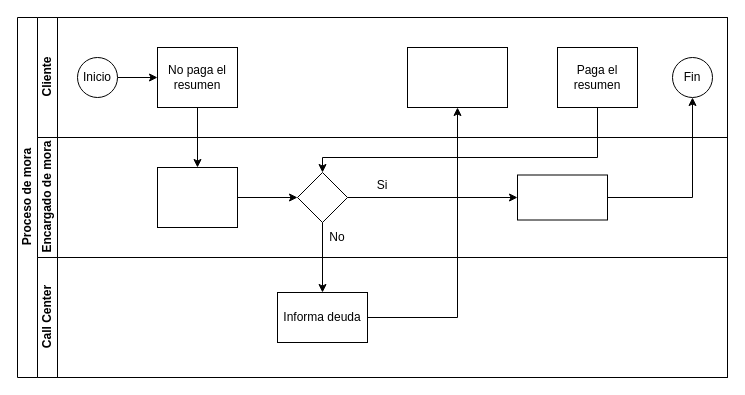
Image size: 745x395. Some labels were removed from this diagram. The centre of each missing label's shape, as x and y in pixels:
"Cliente sale de mora" belongs at (562,197).
"Informa cliente en mora" belongs at (197,197).
"Informado de deuda" belongs at (457,77).
"Pagó?" belongs at (322,197).
